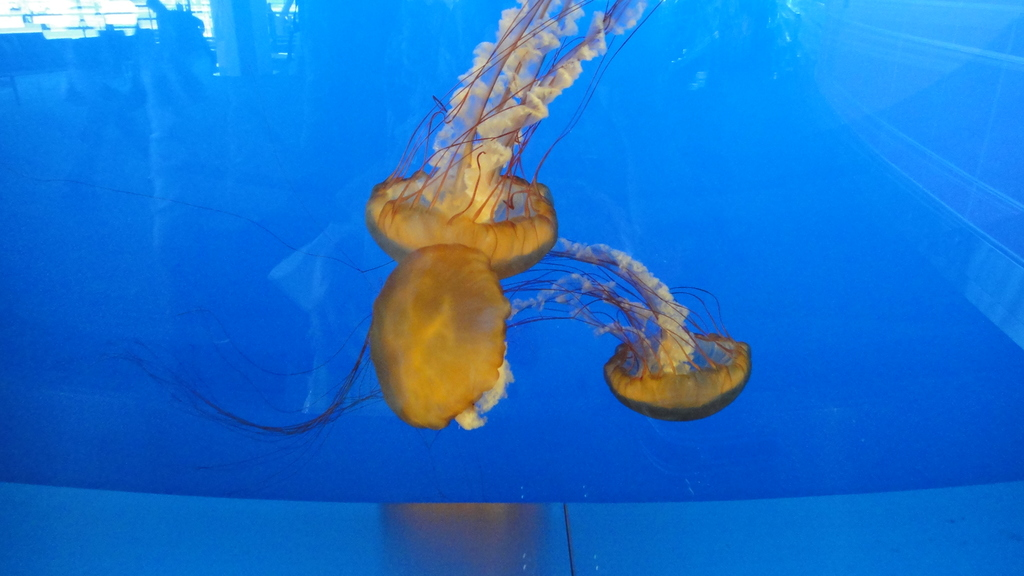Jellyfish: (341, 211, 764, 425), (356, 0, 661, 282), (119, 240, 515, 434)
